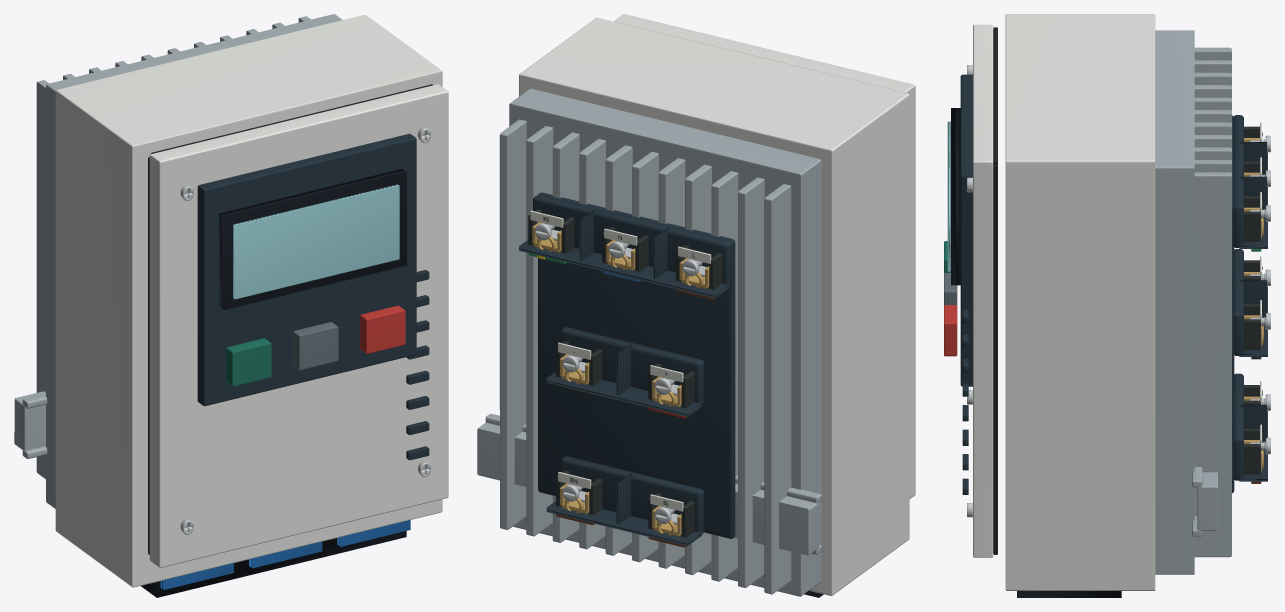
File: battery_default.glb
3 renders of one model, left to right at view 1: azimuth 30°, elevation 25°; view 2: azimuth 150°, elevation 25°; view 3: azimuth 270°, elevation 25°, orthographic. The views are drawn at different scales.
Parts seen in each view (by area): view 1: part:cover, part:body, part:cover · Original a463fd81, part:display, part:body · Original 2a8198d3, part:battery · Original 7cfa2338, part:battery, part:mounting · Original 2a8198d3, part:body.001, part:body.002, part:body.003, detail:enclosure-gasket-and-fixings · Detail rubber gasket (+1 smaller); view 2: part:body · Original 2a8198d3, part:body, part:terminals · Original a463fd81, part:cover, part:mounting · Original 2a8198d3, detail:terminal-clamp:- · Detail moulded engineering polymer, detail:terminal-clamp:PE · Detail moulded engineering polyme, detail:terminal-clamp:+ · Detail moulded engineering polymer, detail:terminal-clamp:BL · Detail moulded engineering polyme, detail:terminal-clamp:BN · Detail moulded engineering polyme, detail:terminal-clamp:N · Detail moulded engineering polymer, detail:terminal-clamp:L · Detail moulded engineering polymer; view 3: part:body, part:body · Original 2a8198d3, part:cover, part:terminals · Original a463fd81, part:cover · Original a463fd81, detail:enclosure-gasket-and-fixings · Detail rubber gasket, part:display, part:mounting · Original 2a8198d3, detail:terminal-clamp:- · Detail moulded engineering polymer, part:battery, part:body.003, detail:terminal-clamp:BN · Detail moulded engineering polyme (+1 smaller).
Part boxes in pixels (bbox=[...]): part:cover: bbox=[149, 84, 448, 567]; part:body: bbox=[55, 15, 442, 587]; part:cover · Original a463fd81: bbox=[197, 133, 429, 460]; part:display: bbox=[219, 169, 406, 309]; part:body · Original 2a8198d3: bbox=[36, 14, 342, 508]; part:battery · Original 7cfa2338: bbox=[160, 520, 410, 589]; part:battery: bbox=[141, 531, 406, 597]; part:mounting · Original 2a8198d3: bbox=[14, 391, 47, 458]; part:body.001: bbox=[226, 338, 271, 386]; part:body.002: bbox=[293, 322, 338, 370]; part:body.003: bbox=[360, 305, 405, 353]; detail:enclosure-gasket-and-fixings · Detail rubber gasket: bbox=[148, 84, 432, 554]; part:body · Original 2a8198d3: bbox=[499, 88, 821, 596]; part:body: bbox=[519, 17, 909, 595]; part:terminals · Original a463fd81: bbox=[519, 192, 735, 546]; part:cover: bbox=[614, 14, 915, 498]; part:mounting · Original 2a8198d3: bbox=[477, 413, 821, 555]; detail:terminal-clamp:- · Detail moulded engineering polymer: bbox=[556, 341, 602, 395]; detail:terminal-clamp:PE · Detail moulded engineering polyme: bbox=[528, 209, 574, 253]; detail:terminal-clamp:+ · Detail moulded engineering polymer: bbox=[648, 363, 694, 408]; detail:terminal-clamp:BL · Detail moulded engineering polyme: bbox=[648, 492, 694, 537]; detail:terminal-clamp:BN · Detail moulded engineering polyme: bbox=[556, 470, 602, 515]; detail:terminal-clamp:N · Detail moulded engineering polymer: bbox=[602, 227, 648, 271]; detail:terminal-clamp:L · Detail moulded engineering polymer: bbox=[676, 245, 722, 289]; part:body: bbox=[1005, 14, 1155, 590]; part:body · Original 2a8198d3: bbox=[1155, 30, 1231, 574]; part:cover: bbox=[973, 24, 993, 557]; part:terminals · Original a463fd81: bbox=[1232, 115, 1267, 493]; part:cover · Original a463fd81: bbox=[960, 74, 972, 494]; detail:enclosure-gasket-and-fixings · Detail rubber gasket: bbox=[993, 27, 997, 554]; part:display: bbox=[947, 108, 960, 285]; part:mounting · Original 2a8198d3: bbox=[1192, 467, 1217, 536]; detail:terminal-clamp:- · Detail moulded engineering polymer: bbox=[1244, 304, 1261, 359]; part:battery: bbox=[1017, 591, 1121, 597]; part:body.003: bbox=[944, 305, 957, 356]; detail:terminal-clamp:BN · Detail moulded engineering polyme: bbox=[1244, 428, 1261, 474].
Bounding box in the file's own units: 1.16 × 1.57 × 1.03.
